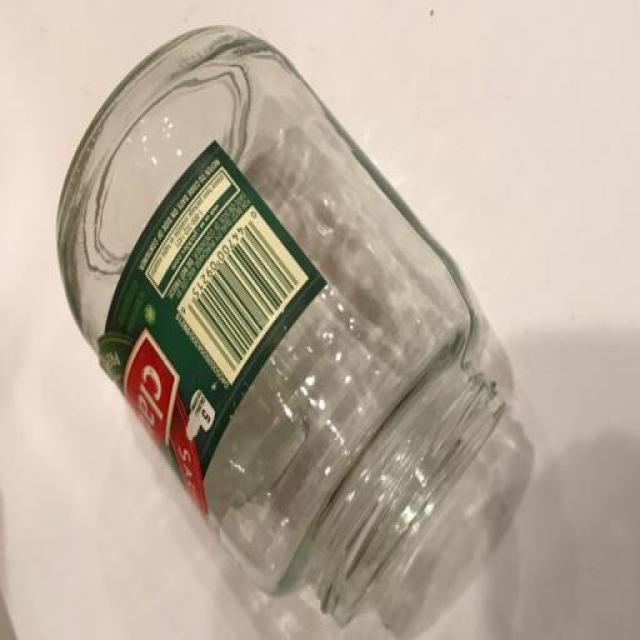Waste: (58, 27, 512, 622)
